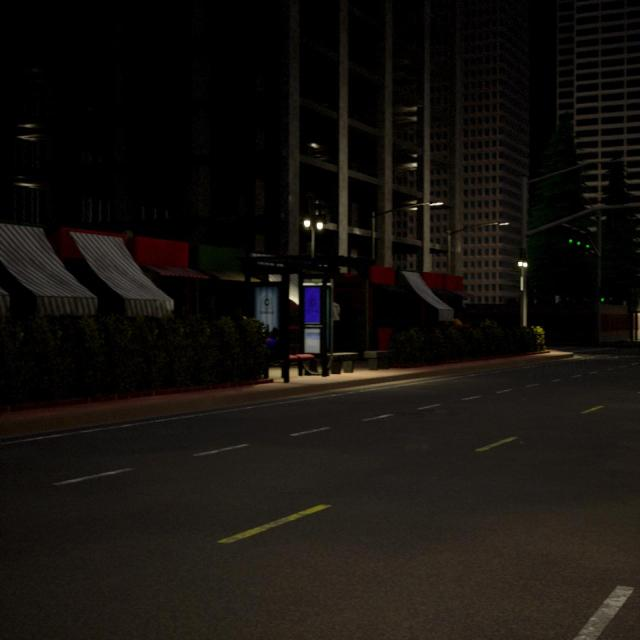traffic_light: (568, 239, 572, 244), (576, 241, 580, 246), (586, 244, 590, 249), (600, 298, 604, 302)
